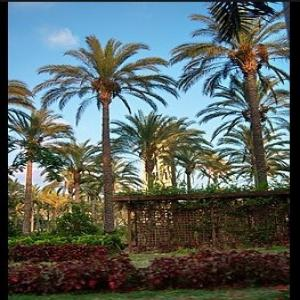palm tree: (32, 33, 178, 234), (169, 2, 290, 190), (7, 106, 72, 235)
